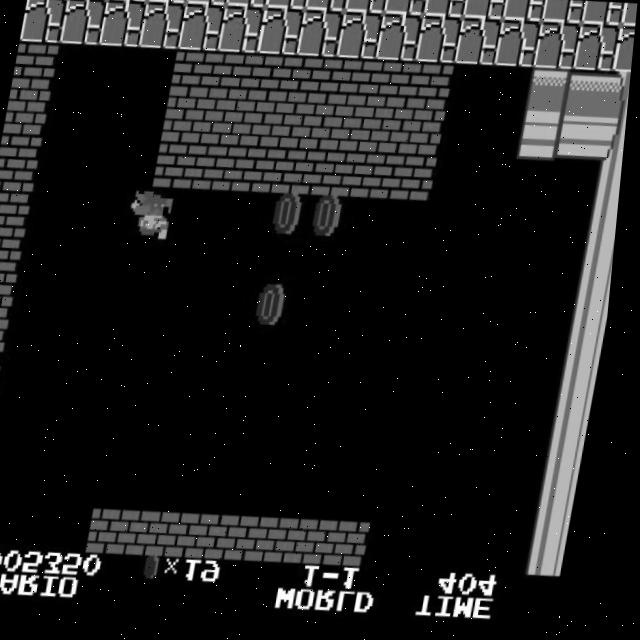1- brick_block: (210, 51, 259, 102), (175, 510, 224, 561), (360, 106, 409, 157), (155, 141, 204, 191), (170, 49, 219, 99), (135, 508, 184, 558), (202, 97, 251, 147), (249, 54, 298, 104), (214, 513, 263, 563), (274, 148, 323, 198), (281, 102, 330, 152), (254, 515, 303, 565), (321, 104, 370, 154), (333, 520, 382, 570), (400, 109, 449, 159), (407, 63, 456, 113), (242, 99, 290, 150), (329, 58, 377, 109), (294, 517, 342, 568), (195, 144, 244, 193), (234, 146, 283, 195), (12, 40, 60, 90), (96, 506, 144, 556), (163, 95, 211, 145), (289, 56, 337, 106), (368, 61, 416, 111), (314, 151, 362, 200), (353, 153, 401, 202), (393, 155, 441, 204), (5, 86, 52, 136), (0, 132, 45, 182), (0, 177, 37, 227), (0, 223, 30, 273), (0, 269, 23, 318), (0, 314, 15, 364), (0, 360, 8, 410), (0, 406, 0, 455)
11- little_mario: (127, 190, 178, 244)
14- pipe: (566, 72, 615, 123), (558, 118, 607, 168), (553, 395, 602, 445), (560, 349, 609, 399), (531, 531, 579, 582), (538, 487, 587, 536), (568, 303, 616, 353), (546, 441, 594, 490), (575, 258, 619, 309), (583, 212, 622, 262), (590, 167, 626, 216), (598, 121, 629, 170), (604, 75, 633, 125)
15- pipe_head: (526, 70, 575, 120), (519, 116, 567, 166)
17- undestructible_block: (296, 10, 345, 61), (415, 17, 464, 68), (573, 26, 622, 77), (138, 1, 187, 51), (217, 6, 266, 56), (256, 8, 305, 58), (336, 13, 385, 63), (375, 15, 424, 65), (494, 22, 543, 72), (178, 3, 226, 54), (455, 19, 503, 70), (534, 24, 582, 74), (99, 0, 147, 49), (58, 0, 107, 46), (20, 0, 67, 44), (501, 0, 546, 27), (541, 2, 586, 29), (581, 4, 626, 31), (612, 29, 636, 79), (462, 0, 507, 24), (422, 0, 467, 22), (383, 0, 428, 20), (343, 0, 388, 17), (303, 0, 348, 15), (263, 0, 308, 12), (619, 8, 638, 34), (225, 0, 269, 10), (185, 0, 229, 8), (145, 0, 189, 6), (106, 0, 149, 3)
2- coin: (306, 195, 355, 246), (266, 193, 315, 243), (252, 285, 300, 335)
